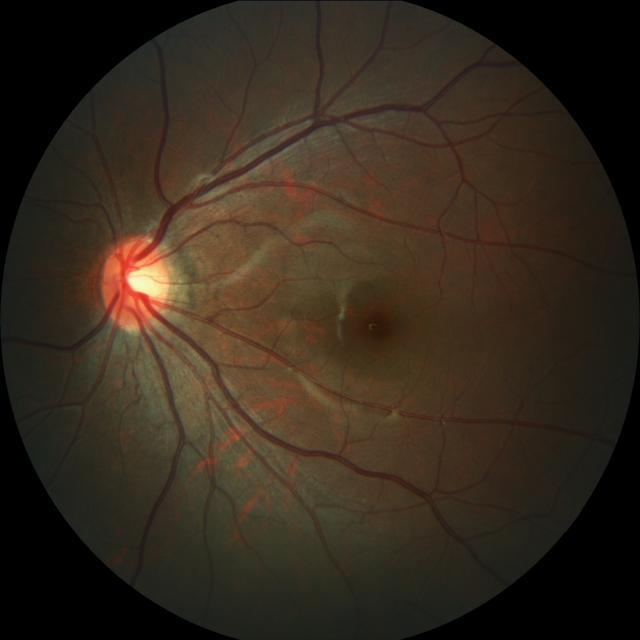OC: (118, 259, 162, 304)
OD: (98, 236, 170, 330)
